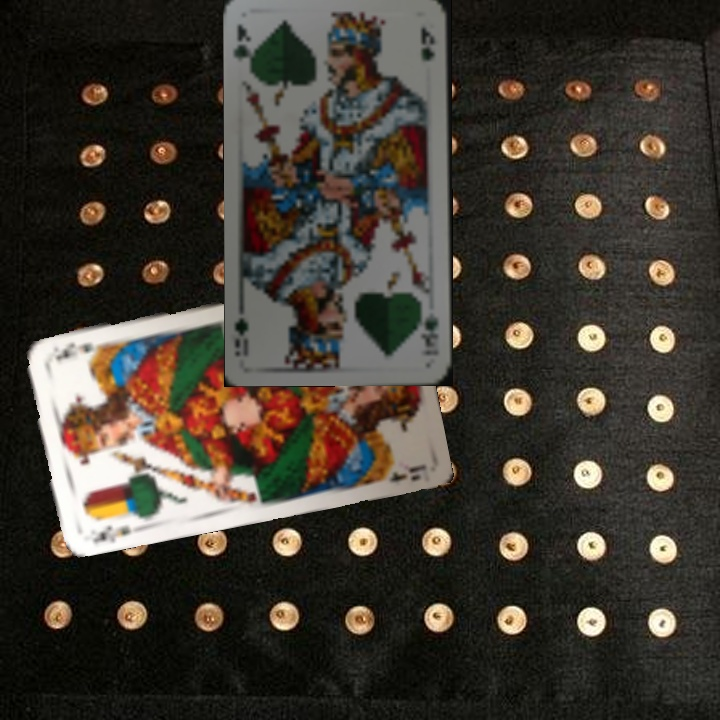EK: (88, 521, 134, 547)
GK: (230, 20, 257, 64), (417, 309, 441, 350)
